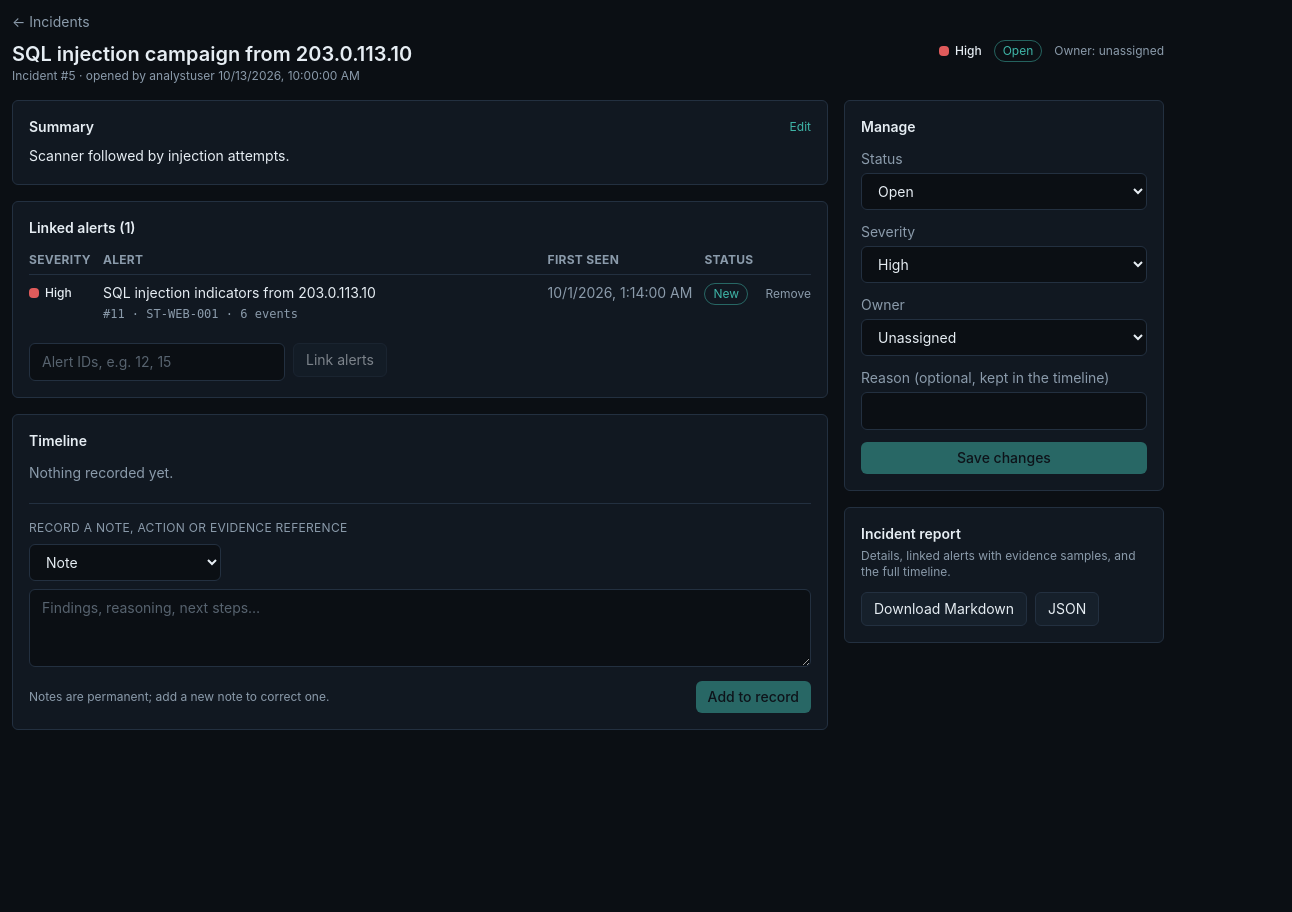
Scenario: IncidentDetailPage › records an action note and reloads the timeline
Expected: the text "Nothing recorded yet." is shown, [29,464,173,481]
Select "Action taken" in the dropdown named "Entry type" at (125, 562), box [29,544,221,581]
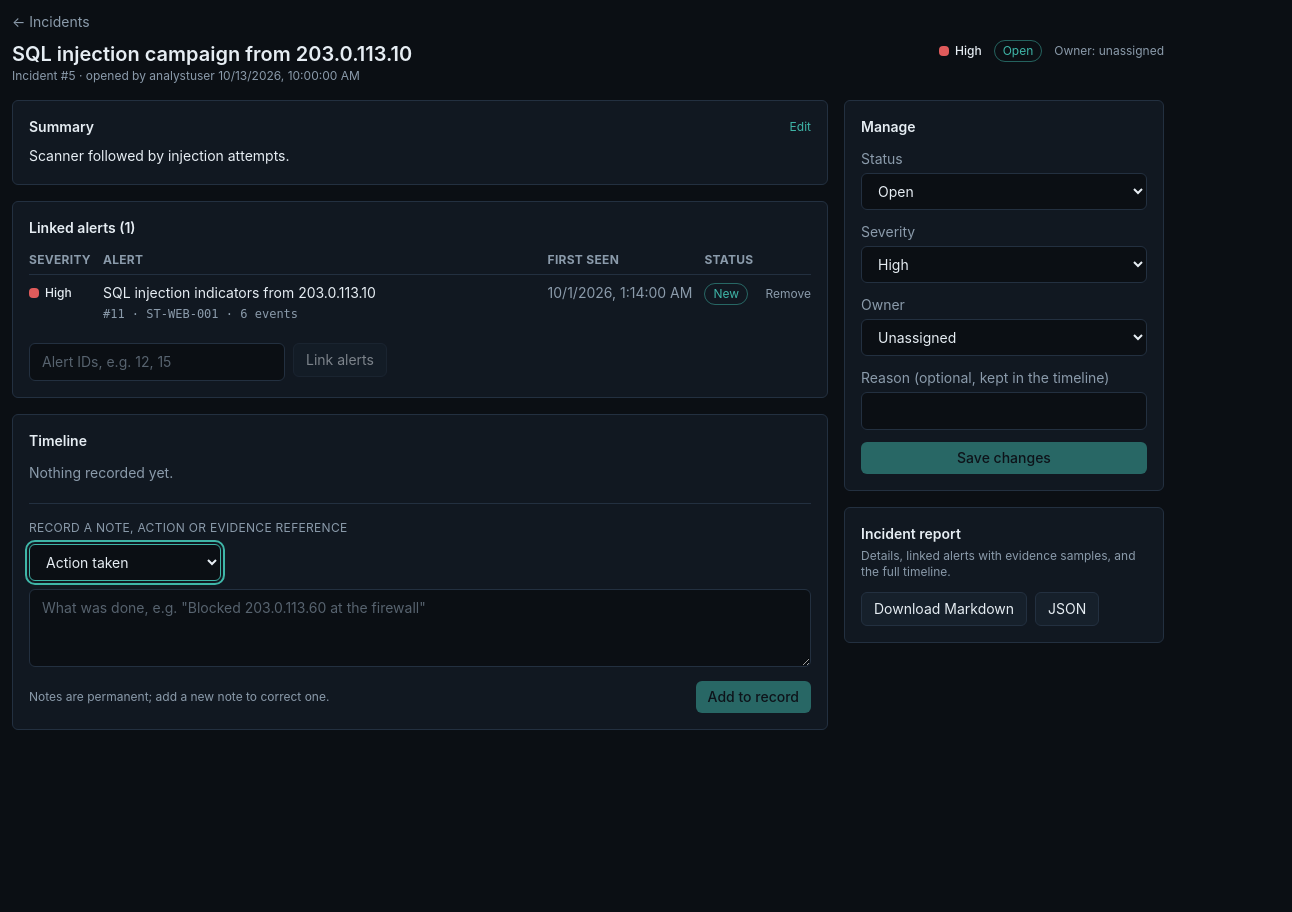
Type "Blocked IP at WAF" into the text box named "Note text" at (420, 628), box [29,589,811,667]
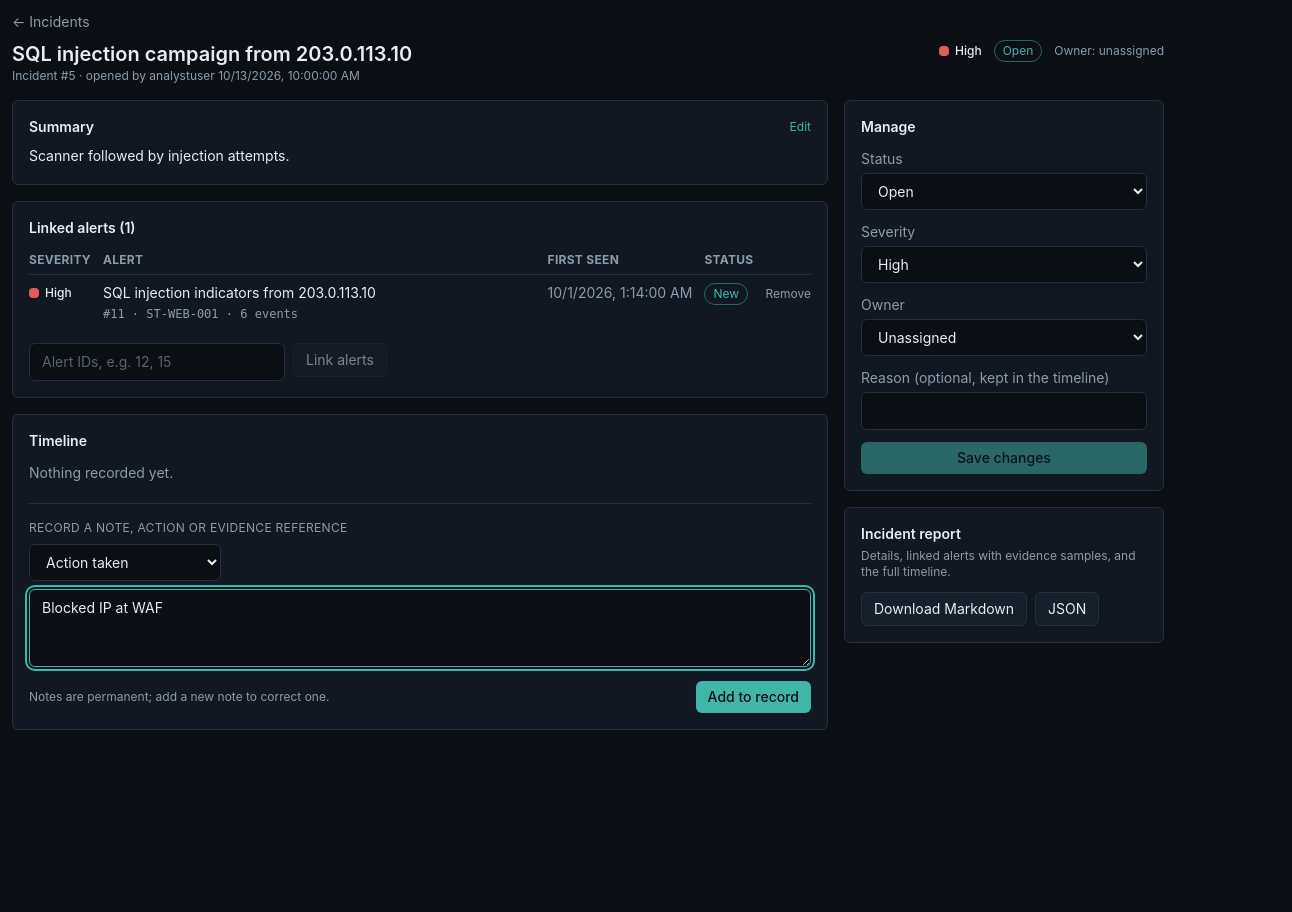
Click the button "Add to record" at (753, 697), box [696,681,811,713]
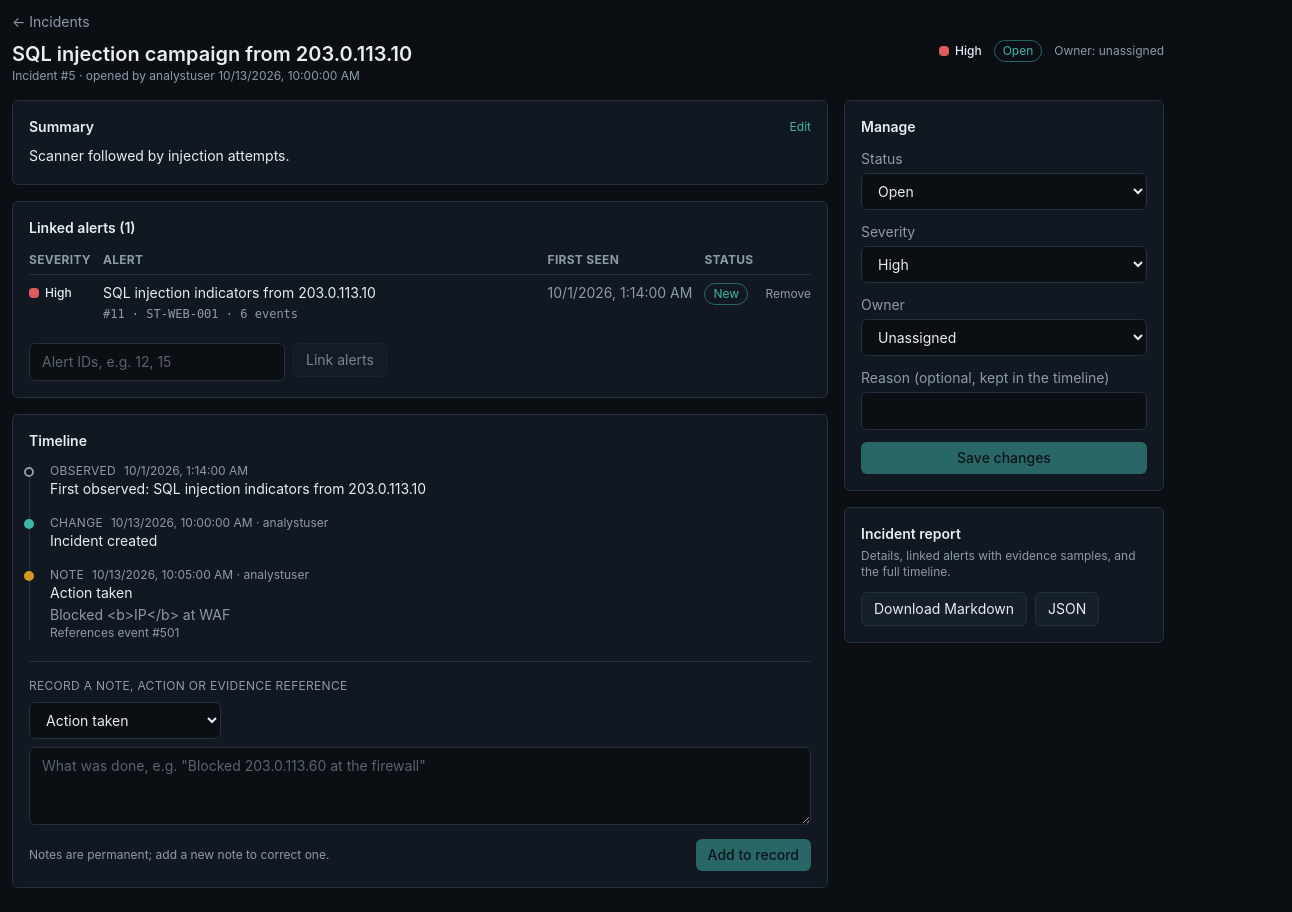
Result: the text "Incident created" is shown at [50,532,157,549]
